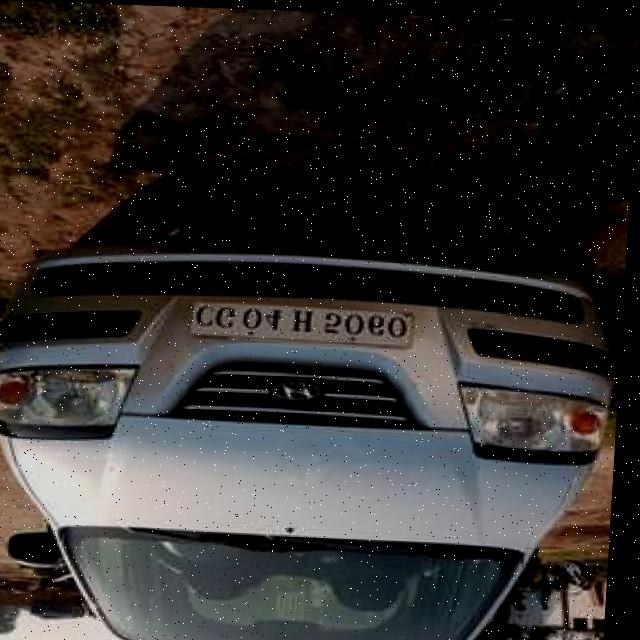plate: (194, 297, 421, 346)
